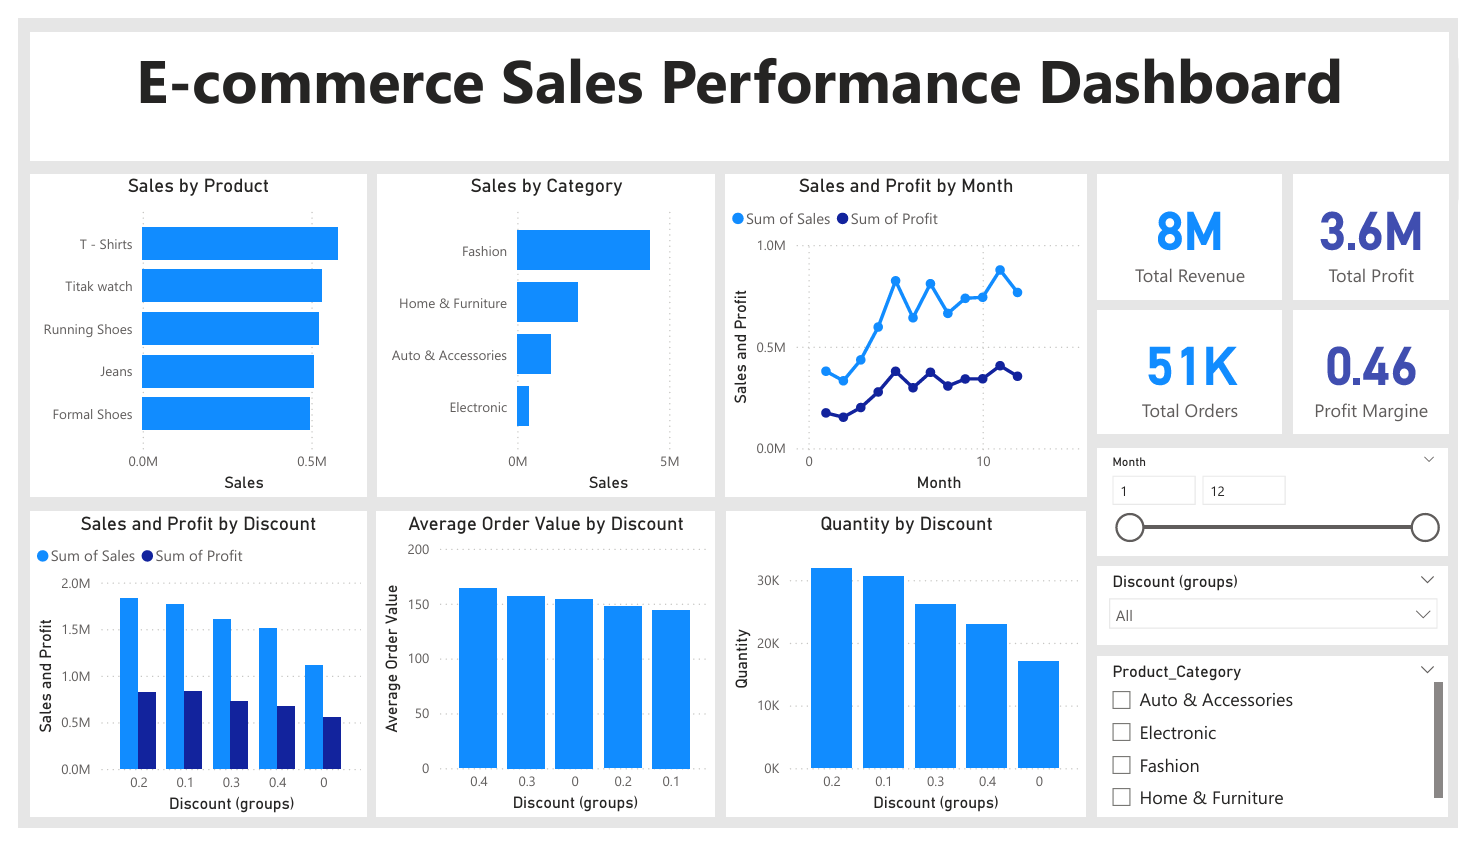

Layout of this report page (visuals, bound fields, positions):
{"tool":"powerbi","page":{"name":"Page 1","canvas":[1280,720],"ordinal":0},"visuals":[{"type":"card","fields":{"Values":["FactOrders.Total Revenue"]},"box":[958.6,138.1,164.1,112],"z":0},{"type":"card","fields":{"Values":["FactOrders.Total Profit"]},"box":[1133.1,138.1,138.1,112],"z":1000},{"type":"card","fields":{"Values":["FactOrders.Profit Margine"]},"box":[1133.1,259.2,138.1,109.4],"z":2000},{"type":"card","fields":{"Values":["FactOrders.Total Orders"]},"box":[958.6,259.2,164.1,109.4],"z":3000},{"type":"clusteredBarChart","title":"Sales by Product","fields":{"Category":["FactOrders.Product"],"Y":["FactOrders.Total Revenue"]},"box":[10.4,138.1,298.3,286.5],"z":4000},{"type":"clusteredBarChart","title":"Sales by Category","fields":{"Category":["Products.Product_Category"],"Y":["FactOrders.Total Revenue"]},"box":[319.1,138.1,299.6,286.5],"z":5000},{"type":"clusteredColumnChart","title":"Sales and Profit by Discount","fields":{"Category":["FactOrders.Discount (groups)"],"Y":["Sum(FactOrders.Sales)","Sum(FactOrders.Profit)"]},"box":[10.4,437.6,298.3,272.2],"z":6000},{"type":"clusteredColumnChart","title":"Average Order Value by Discount","fields":{"Category":["FactOrders.Discount (groups)"],"Y":["FactOrders.Average Order Value"]},"box":[317.8,437.6,300.9,272.2],"z":7000},{"type":"clusteredColumnChart","title":"Quantity by Discount","fields":{"Category":["FactOrders.Discount (groups)"],"Y":["Sum(FactOrders.Quantity)"]},"box":[629.1,437.6,320.4,272.2],"z":8000},{"type":"slicer","fields":{"Values":["DateTime.Month"]},"box":[958.6,381.6,312.6,96.4],"z":9000},{"type":"slicer","fields":{"Values":["Products.Product_Category"]},"box":[958.6,566.5,312.6,143.3],"z":10000},{"type":"slicer","fields":{"Values":["FactOrders.Discount (groups)"]},"box":[958.6,487.1,312.6,70.3],"z":11000},{"type":"textbox","box":[10.4,11.7,1260.7,114.6],"z":12000},{"type":"lineChart","title":"Sales and Profit by Month","fields":{"Y":["Sum(FactOrders.Sales)","Sum(FactOrders.Profit)"],"Category":["DateTime.Month"]},"box":[628.4,137.6,320.7,287],"z":13000}]}

Visuals, with their boxes in screenshot pixels (x1, y1, x2, y2), scaled from the page's 1280x720 canvas onto the 1477x846 screenshot:
card - FactOrders.Total Revenue: (1106, 162, 1295, 294)
card - FactOrders.Total Profit: (1307, 162, 1467, 294)
card - FactOrders.Profit Margine: (1307, 305, 1467, 433)
card - FactOrders.Total Orders: (1106, 305, 1295, 433)
"Sales by Product" clusteredBarChart: (12, 162, 356, 499)
"Sales by Category" clusteredBarChart: (368, 162, 714, 499)
"Sales and Profit by Discount" clusteredColumnChart: (12, 514, 356, 834)
"Average Order Value by Discount" clusteredColumnChart: (367, 514, 714, 834)
"Quantity by Discount" clusteredColumnChart: (726, 514, 1096, 834)
slicer - DateTime.Month: (1106, 448, 1467, 562)
slicer - Products.Product_Category: (1106, 666, 1467, 834)
slicer - FactOrders.Discount (groups): (1106, 572, 1467, 655)
textbox: (12, 14, 1467, 148)
"Sales and Profit by Month" lineChart: (725, 162, 1095, 499)
